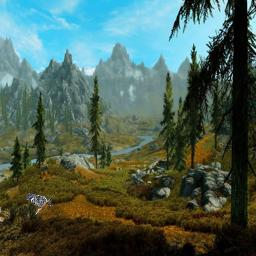Woodpecker: (25, 193, 54, 215)
